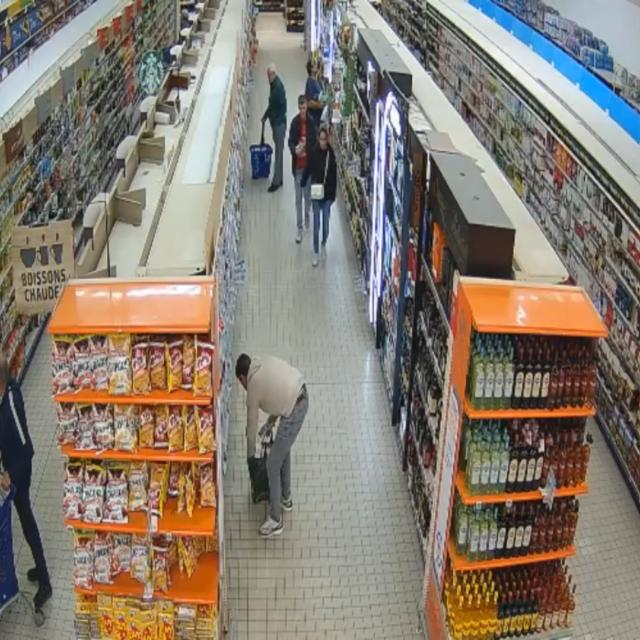article: (295, 143, 303, 154)
bags: (248, 432, 273, 503), (311, 149, 329, 200)
hands: (0, 472, 10, 491), (296, 147, 306, 158), (262, 115, 267, 123)
person: (236, 354, 308, 538), (0, 355, 52, 609), (302, 126, 337, 266), (288, 96, 317, 243), (262, 64, 286, 192), (305, 61, 324, 126)
